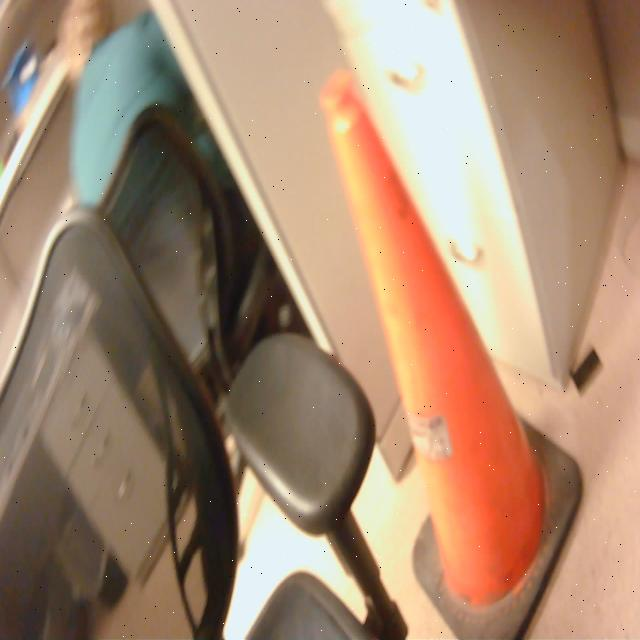traffic cone: (318, 62, 589, 640)
